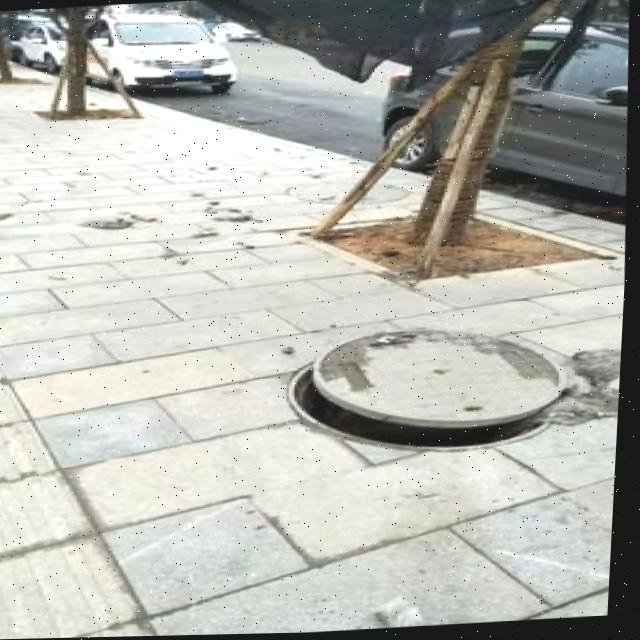manhole: (278, 323, 586, 461)
